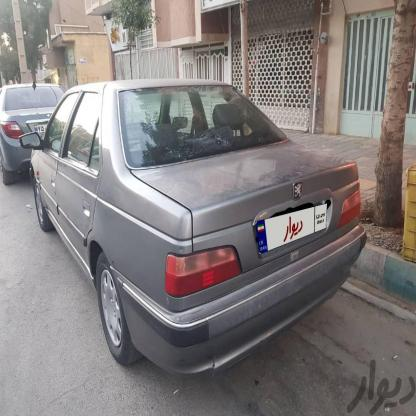Car: (28, 79, 372, 388), (0, 83, 67, 196)
